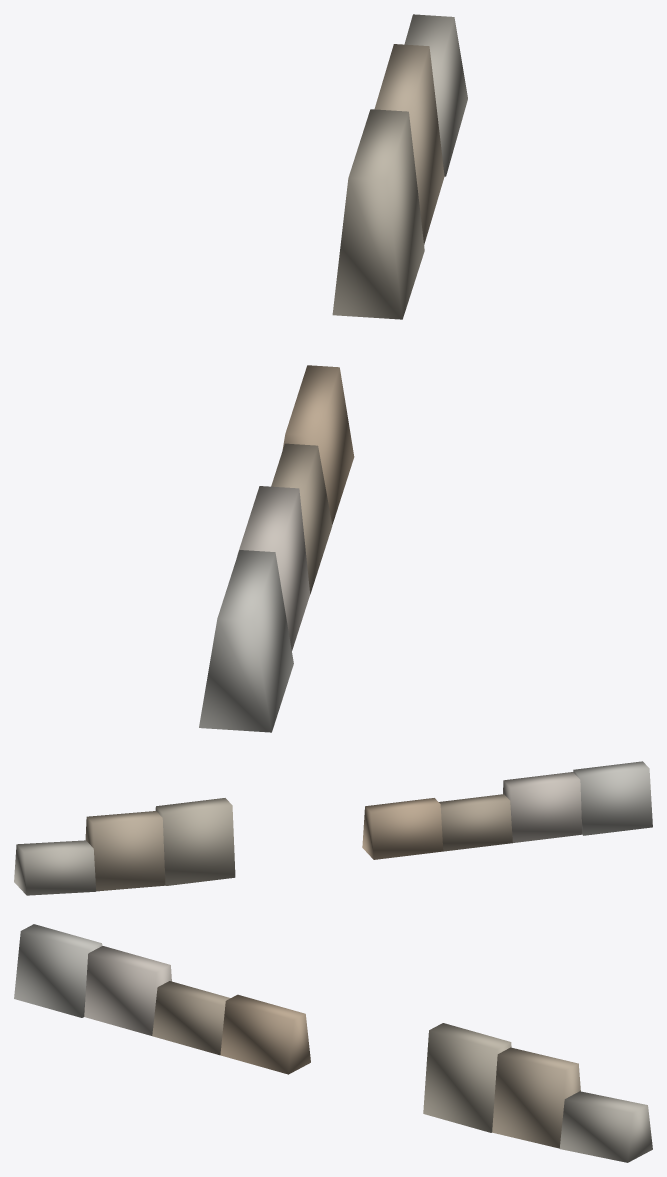
File: farm_25_17_collision.glb
The picture shows the model from 3 angles, top to bottom: view 1: azimuth 30°, elevation 25°; view 2: azimuth 150°, elevation 25°; view 3: azimuth 270°, elevation 25°; orthographic projection. The views are drawn at different scales.
Visible parts, largest first — view 1: geometry_0; view 2: geometry_0; view 3: geometry_0.
Part boxes in pixels (<box>): geometry_0: <box>199,14,467,732</box>; geometry_0: <box>14,761,652,895</box>; geometry_0: <box>14,924,652,1162</box>.
Size of the model in its own units: 8.89 by 2.03 by 10.93.
